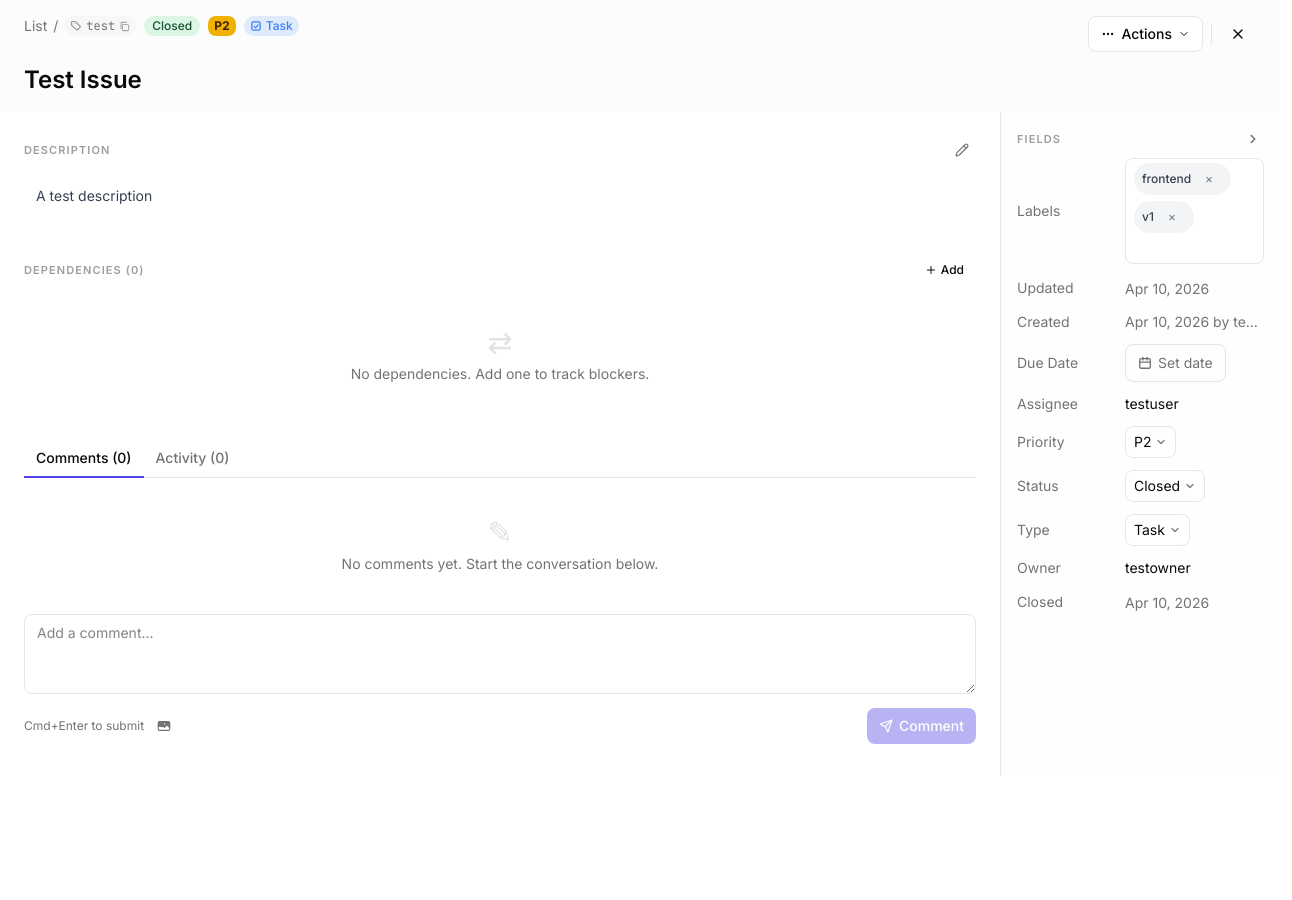
Scenario: DetailView › does not show Claim/Close buttons for closed issues
Open the Actions menu — only Delete should be present, no Claim or Close.
What coordinates should you click on to do the following:
click the button "Actions"
I would click on:
 (1146, 34)
Its box is [1088,16,1203,52].
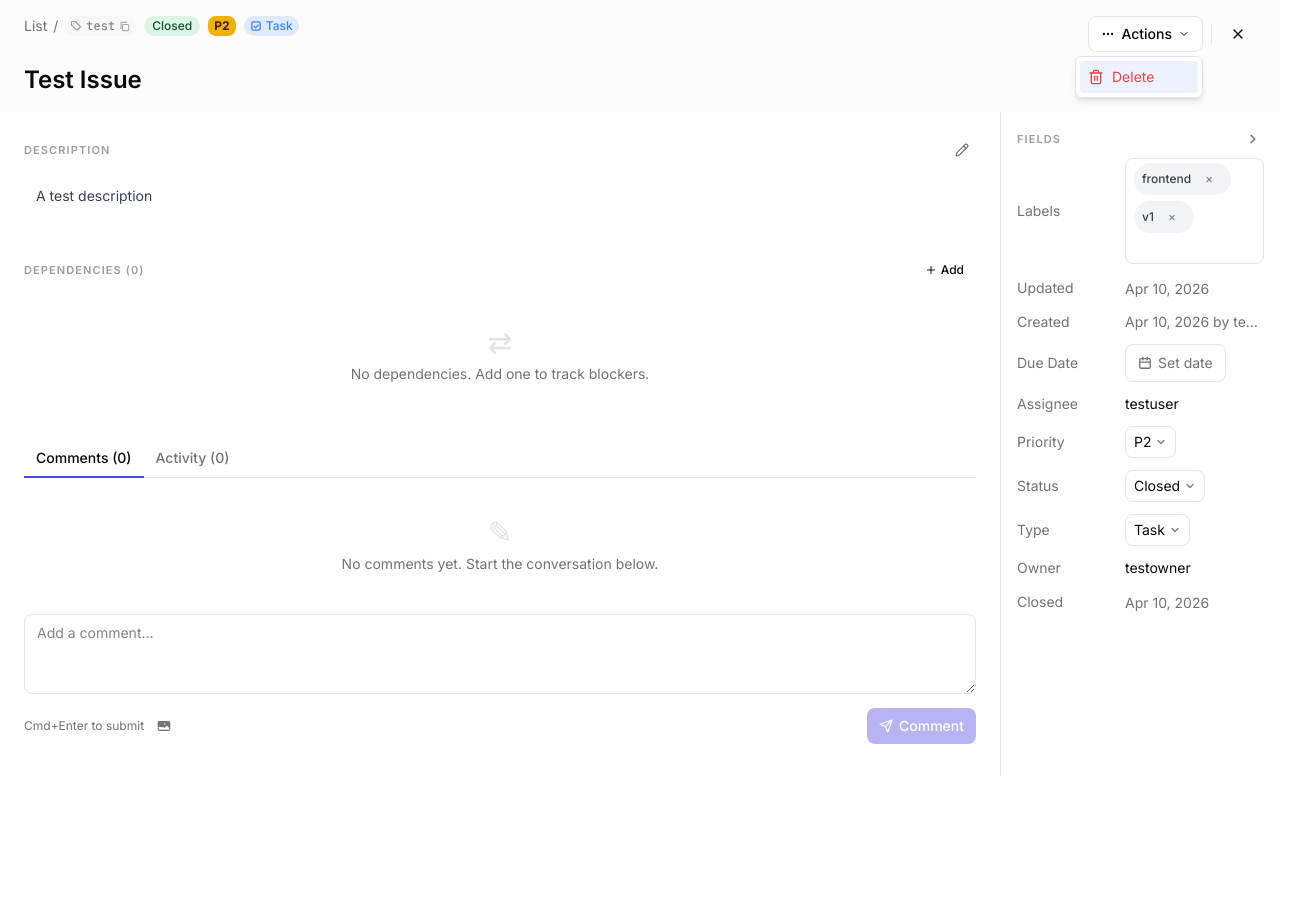
Now the menu item "Delete" is shown, box [1080,61,1198,93]
